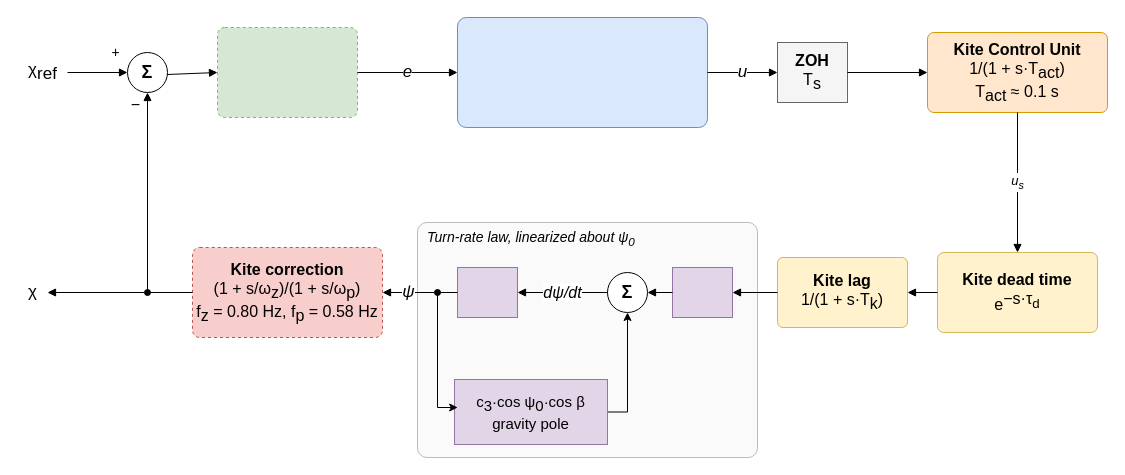
The diagram is 1125 pixels wide and 475 high, and some of its shapes have lost their labels. The shapes that lost their labels are listed below. From the top down, each one's centre as x and y in pixels, then its label:
At point (287, 72): "Guidance 1 + ω g ·T s /(z−1) ω g = v k /(L·Δ)".
At point (582, 72): "Course PD C(z) = K + b d (z−1)/(z−a d )".
At point (487, 292): "1/s".
At point (702, 292): "c 1 ·v a".
